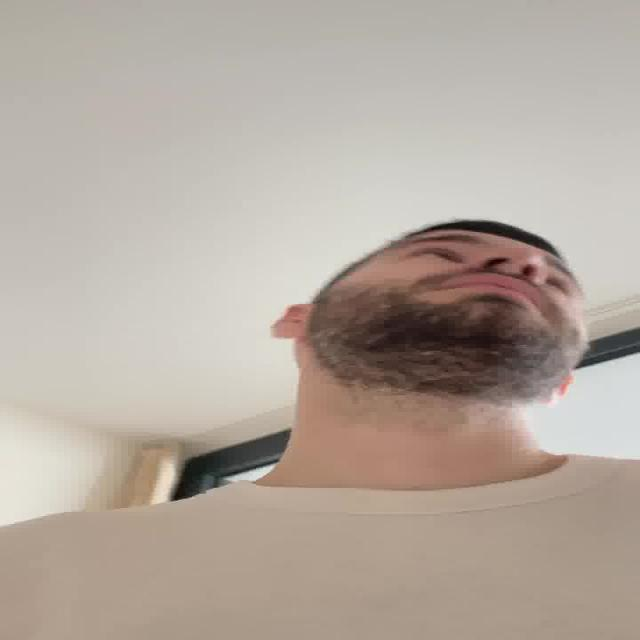earlobe: (271, 325, 301, 339), (538, 393, 559, 409)
eye: (398, 248, 474, 264), (547, 276, 579, 292)
nose: (468, 262, 548, 282)
wholeear: (273, 302, 311, 338), (539, 372, 577, 407)
